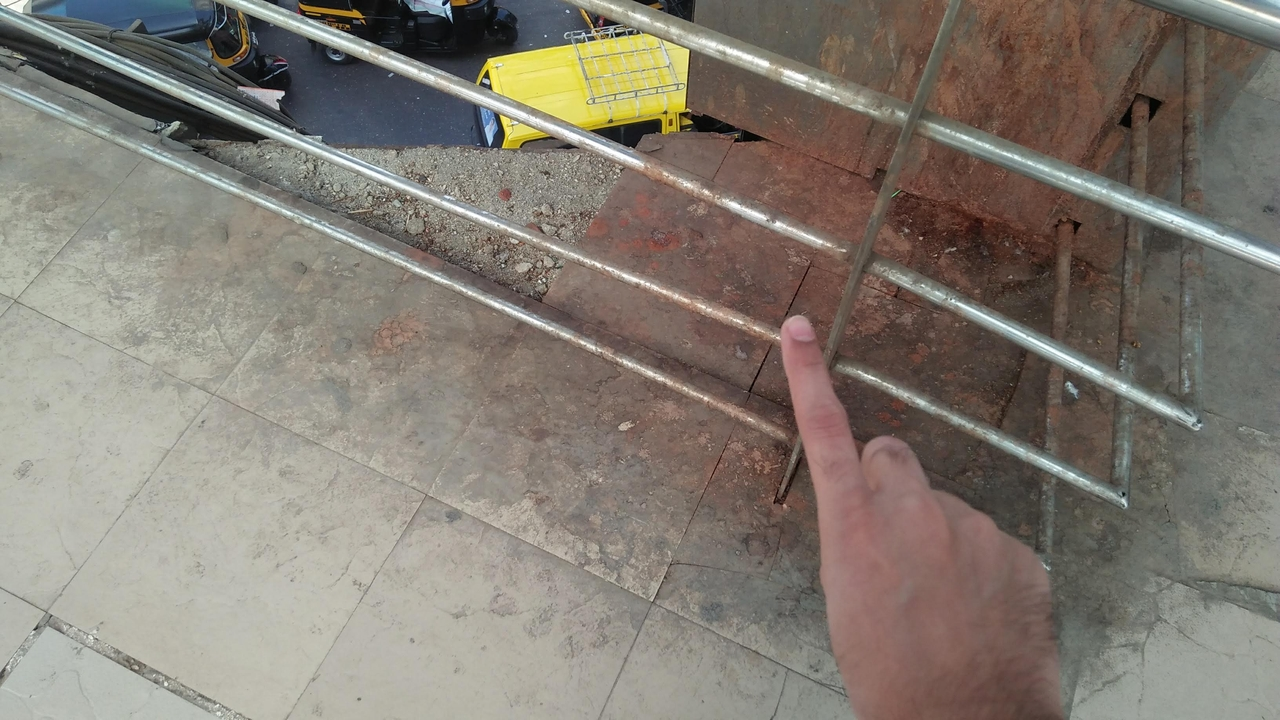fingertip: (774, 314, 826, 366)
